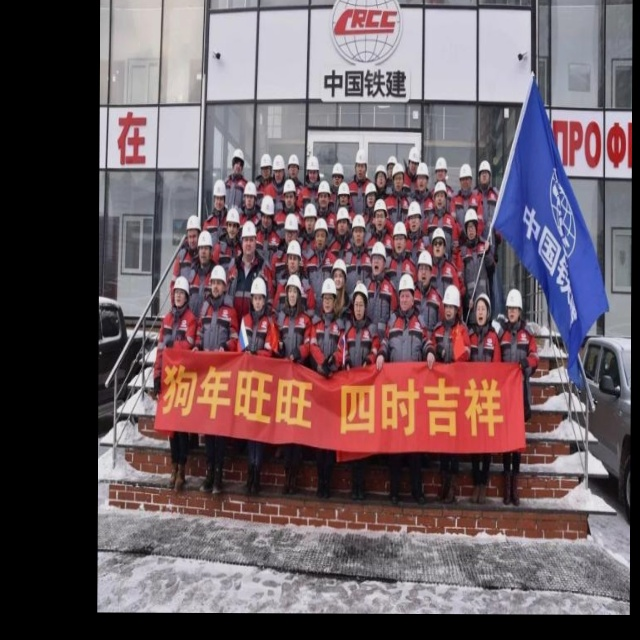Con_Casco: (442, 284, 461, 318), (352, 284, 369, 322), (241, 221, 258, 258), (399, 273, 415, 308), (505, 288, 523, 319), (370, 241, 386, 275), (174, 277, 190, 309), (321, 279, 336, 313), (432, 227, 446, 258)
